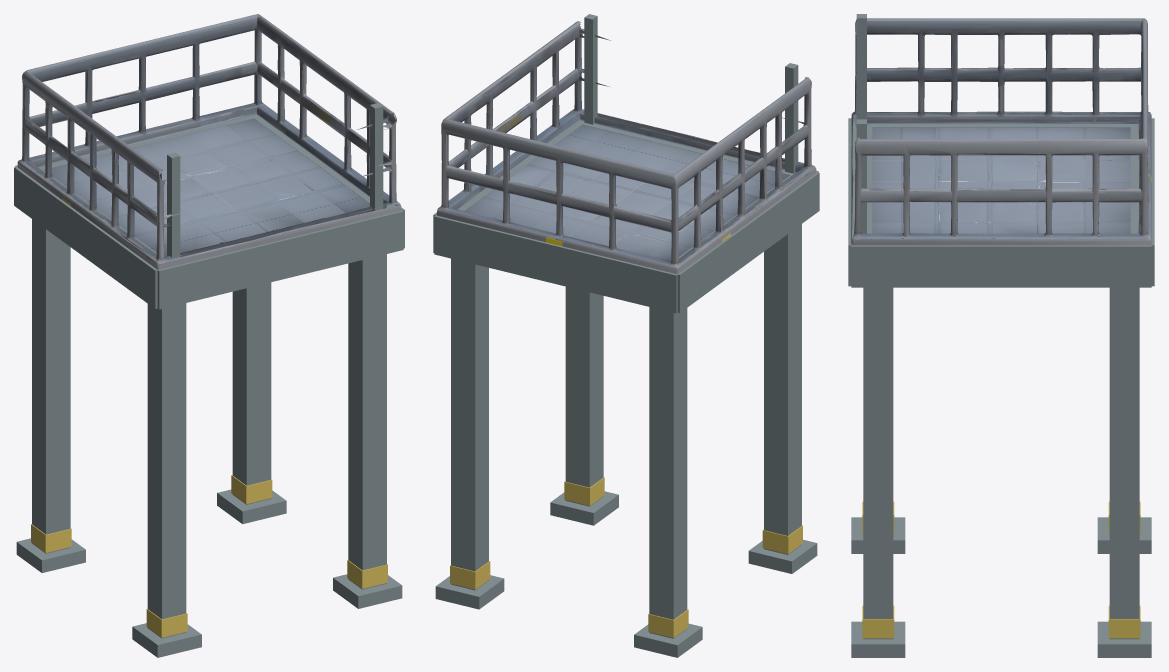
The model's file is platform.glb.
The picture shows the model from 3 angles, left to right: view 1: azimuth 30°, elevation 25°; view 2: azimuth 150°, elevation 25°; view 3: azimuth 270°, elevation 25°; orthographic projection. The views are drawn at different scales.
Visible parts, largest first — view 1: Industrial_platform; view 2: Industrial_platform; view 3: Industrial_platform.
Part boxes in pixels (x1,y1,x2,y2): Industrial_platform: (14,14,404,657); Industrial_platform: (433,14,819,657); Industrial_platform: (848,14,1154,657).
Bounding box in the file's own units: 2.04 × 3.86 × 2.04.
3 materials, 1 textured.
